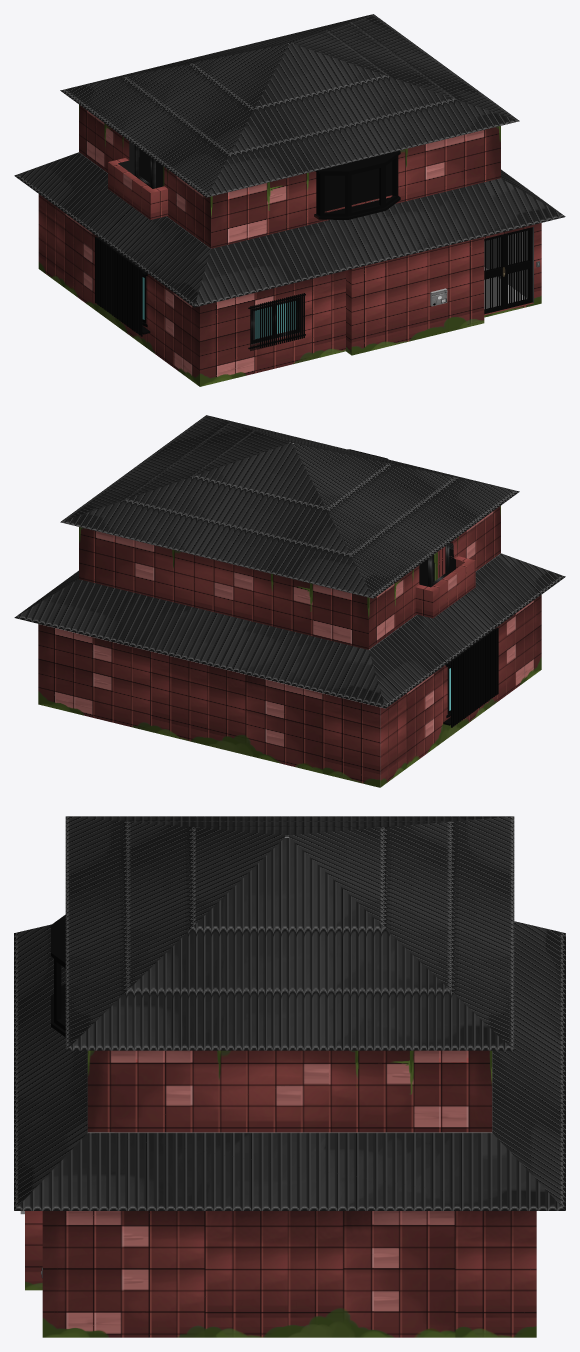
Rendered from House_3_Red_empty.fbx.
The picture shows the model from 3 angles, top to bottom: view 1: azimuth 30°, elevation 25°; view 2: azimuth 150°, elevation 25°; view 3: azimuth 270°, elevation 25°; orthographic projection. The views are drawn at different scales.
Parts seen in each view (by area): view 1: A2, A, A3, Cube.054, Cube.056, Cube.078, Cube.058, Cube.063; view 2: A2, A, A3, Cube.054; view 3: A, A2, A3.
Boxes of the visible parts, x1,y1,x2,y2 form: A2: (14, 43, 565, 307); A: (60, 14, 519, 197); A3: (38, 194, 541, 386); Cube.054: (95, 236, 142, 336); Cube.056: (250, 293, 304, 350); Cube.078: (505, 227, 532, 308); Cube.058: (484, 234, 505, 314); Cube.063: (251, 298, 299, 344); A2: (14, 442, 565, 708); A: (60, 415, 519, 598); A3: (38, 595, 541, 787); Cube.054: (451, 627, 498, 727); A: (65, 816, 514, 1050); A2: (14, 835, 565, 1210); A3: (25, 1211, 536, 1337).
Bounding box in the file's own units: 1371 × 860 × 1151.
